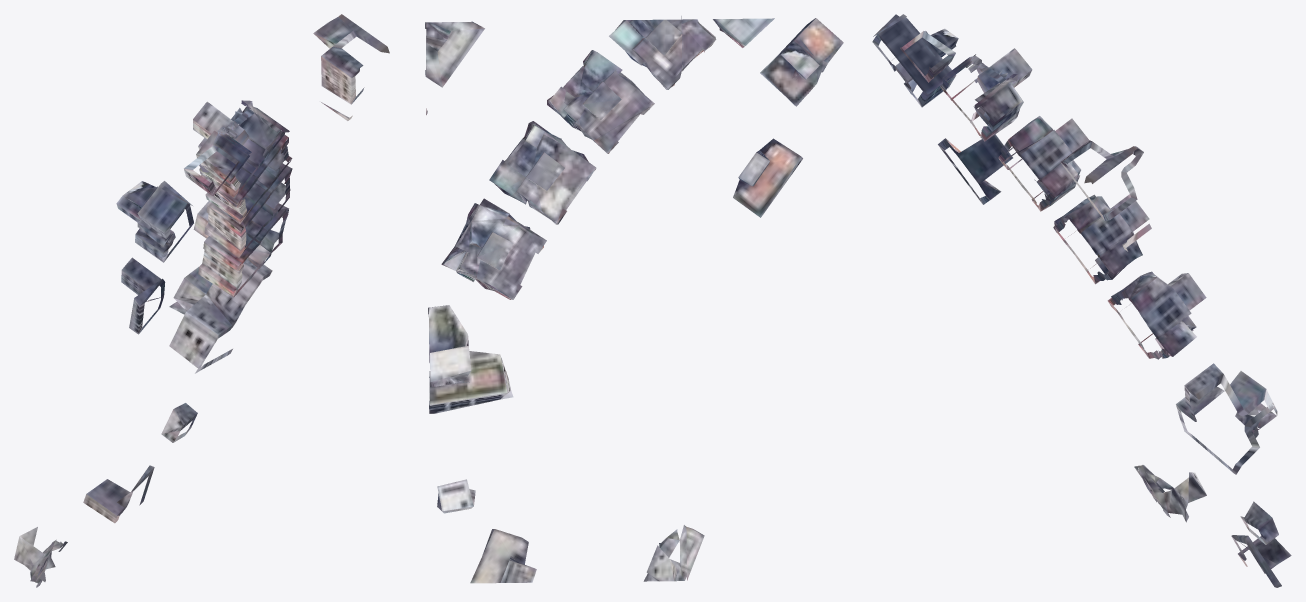
The picture shows the model from 3 angles, left to right: view 1: azimuth 30°, elevation 25°; view 2: azimuth 150°, elevation 25°; view 3: azimuth 270°, elevation 25°; orthographic projection. The views are drawn at different scales.
Bounding box in the file's own units: 104 × 147 × 110.
Materials: 1 (1 with a texture image).
